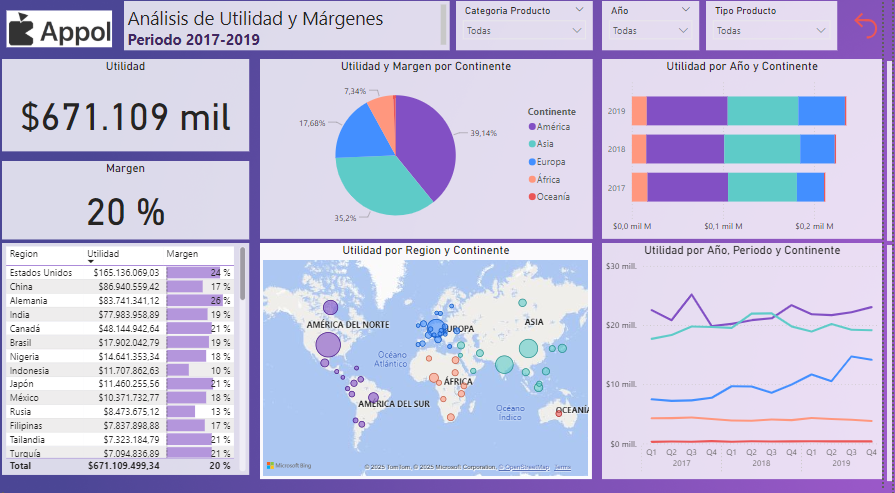

What the dashboard file says about the page in this screenshot:
{"tool":"powerbi","page":{"name":"Reporte","canvas":[1280,720],"ordinal":0},"visuals":[{"type":"card","title":"Utilidad","fields":{"Values":["Medida.Utilidad"]},"box":[11.4,95.7,355.7,132.9],"z":0},{"type":"card","title":"Margen","fields":{"Values":["Medida.Margen"]},"box":[11.4,241.4,355.7,112.9],"z":1000},{"type":"pieChart","fields":{"Category":["Tabla Datos.Continente"],"Y":["Medida.Utilidad"]},"box":[382.9,95.7,478.6,258.6],"z":2000},{"type":"barChart","fields":{"Category":["Tabla Datos.Año"],"Series":["Tabla Datos.Continente"],"Y":["Medida.Utilidad"]},"box":[875.7,95.7,404.3,258.6],"z":3000},{"type":"map","fields":{"Size":["Medida.Utilidad"],"Category":["Tabla Datos.Region"],"Series":["Tabla Datos.Continente"]},"box":[383,360,478.1,339.8],"z":4000},{"type":"tableEx","fields":{"Values":["Tabla Datos.Region","Medida.Utilidad","Medida.Margen"]},"box":[11.4,360,355.7,334.3],"z":5000},{"type":"lineChart","fields":{"Category":["Tabla Datos.Año","Tabla Datos.Periodo"],"Y":["Medida.Utilidad"],"Series":["Tabla Datos.Continente"]},"box":[875.5,360,404.6,339.8],"z":6000},{"type":"actionButton","title":"Restablecer","box":[1231.4,11.4,48.6,71.4],"z":7000},{"type":"slicer","fields":{"Values":["Tabla Productos.Categoria Producto"]},"box":[665.7,11.4,197.1,71.4],"z":8000},{"type":"slicer","fields":{"Values":["Tabla Productos.Tipo Producto"]},"box":[1025.7,11.4,188.6,71.4],"z":9000},{"type":"slicer","fields":{"Values":["Tabla Datos.Año"]},"box":[875.7,11.4,140,71.4],"z":10000},{"type":"textbox","box":[187.1,11.4,468.6,71.4],"z":11000},{"type":"image","box":[0,20.2,187.2,63.4],"z":12000}]}

Visuals, with their boxes in screenshot pixels (x1, y1, x2, y2), scaled from the page's 1280x720 canvas onto the 895x493 screenshot:
"Utilidad" card: detection(8, 66, 257, 157)
"Margen" card: detection(8, 165, 257, 243)
pieChart - Tabla Datos.Continente x Medida.Utilidad: detection(268, 66, 602, 243)
barChart - Tabla Datos.Año x Tabla Datos.Continente: detection(612, 66, 894, 243)
map - Medida.Utilidad x Tabla Datos.Region: detection(268, 246, 602, 479)
tableEx - Tabla Datos.Region x Medida.Utilidad: detection(8, 246, 257, 475)
lineChart - Tabla Datos.Año x Tabla Datos.Periodo: detection(612, 246, 894, 479)
"Restablecer" actionButton: detection(861, 8, 894, 57)
slicer - Tabla Productos.Categoria Producto: detection(465, 8, 603, 57)
slicer - Tabla Productos.Tipo Producto: detection(717, 8, 849, 57)
slicer - Tabla Datos.Año: detection(612, 8, 710, 57)
textbox: detection(131, 8, 458, 57)
image: detection(0, 14, 131, 57)
